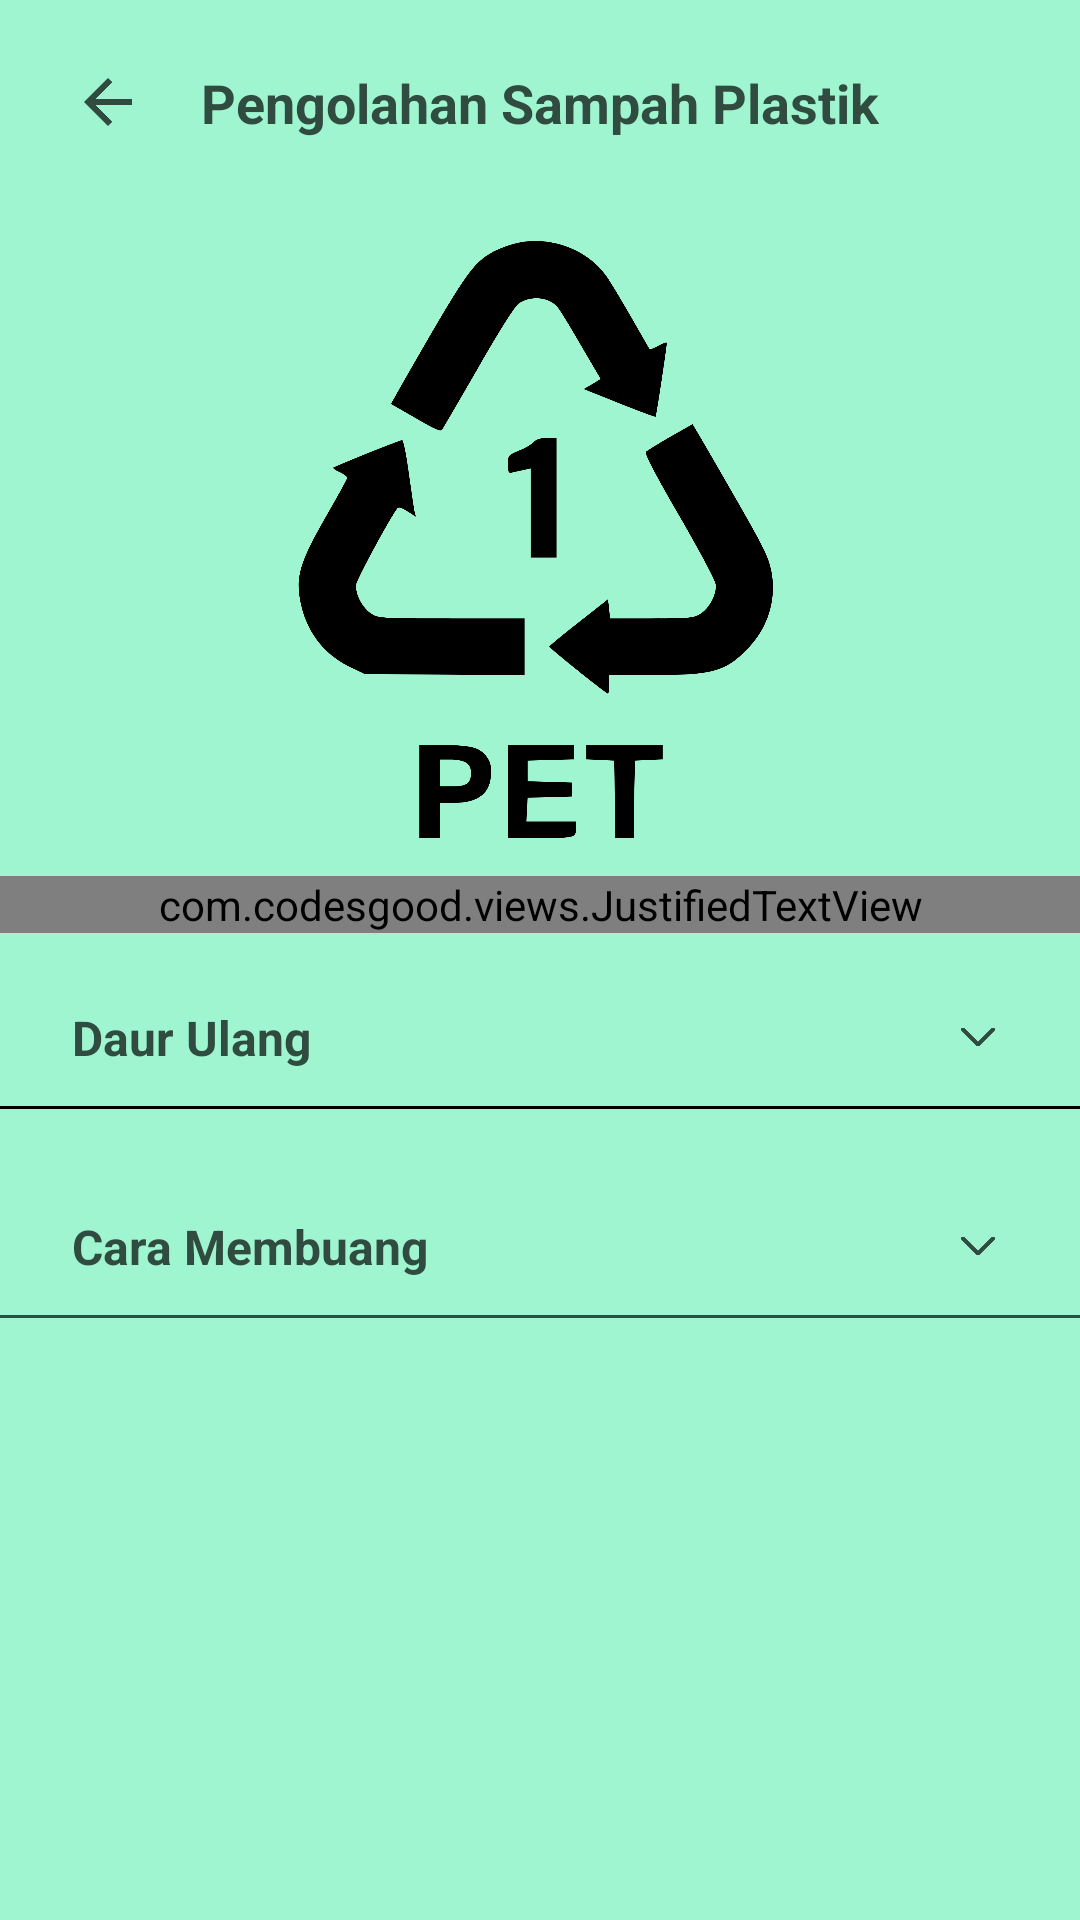

Named icons in this screenshot (1080px×1920px) and their bounding boxes, (x1, y1, x2, y2):
back: (84, 78, 132, 126)
